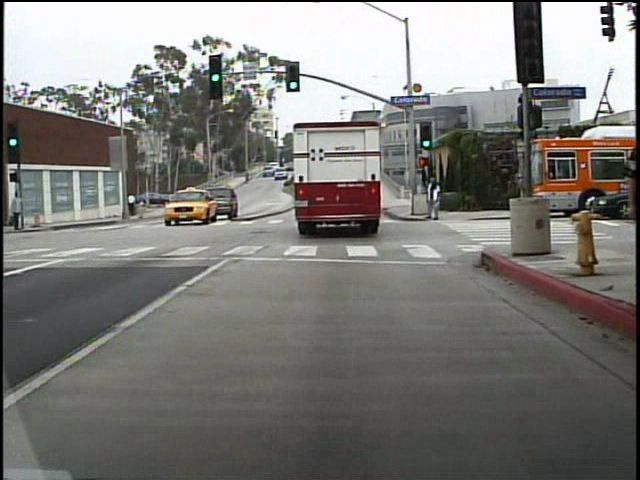person: (421, 175, 446, 222), (14, 189, 28, 232), (124, 187, 141, 220)
